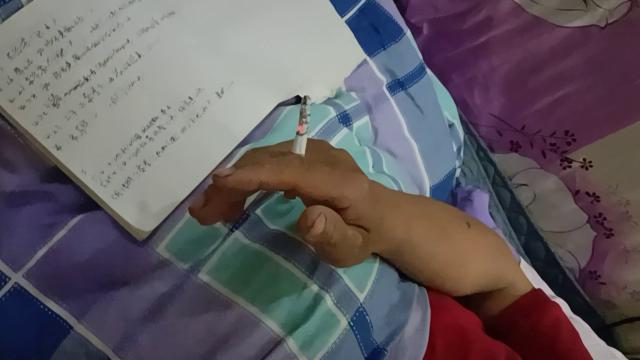Cigarette: (284, 95, 312, 199)
